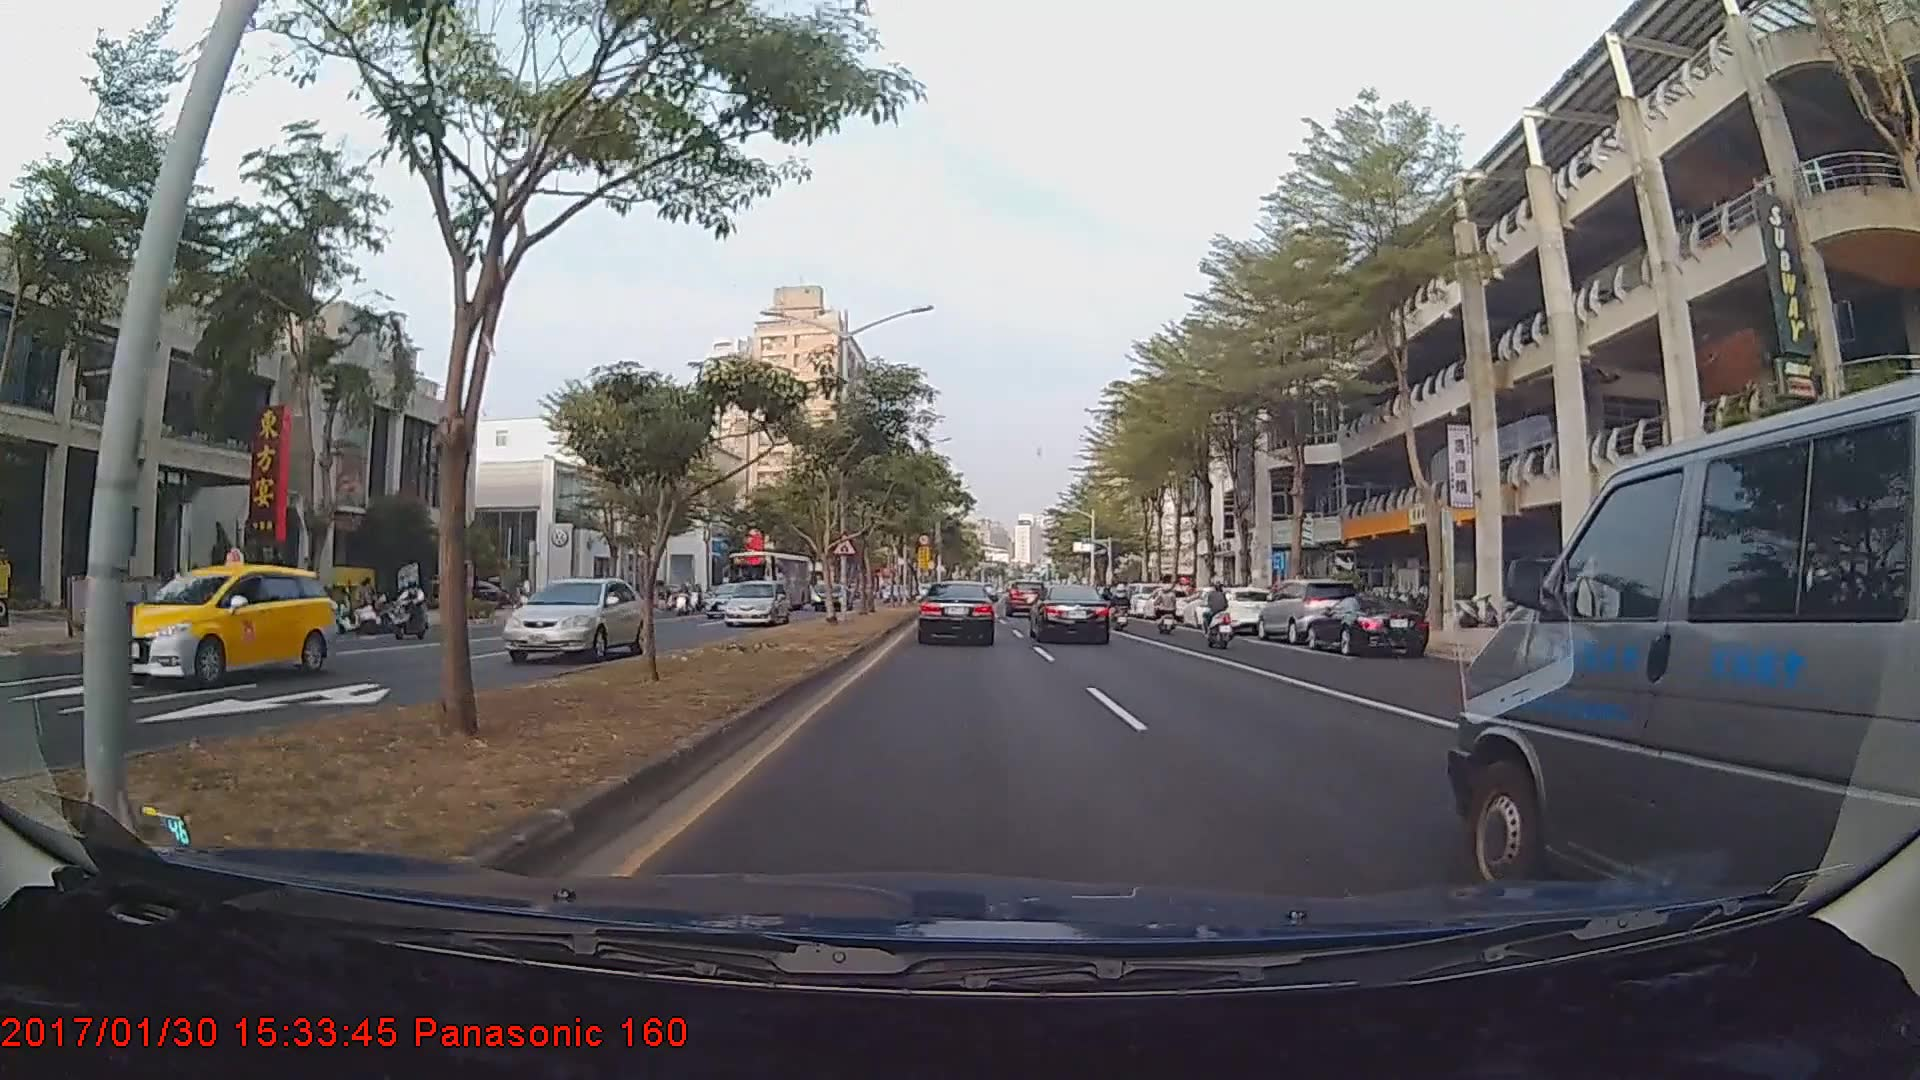rider: (389, 575, 436, 648), (1199, 583, 1240, 656), (1148, 583, 1182, 641), (1109, 585, 1132, 635)
vehicle: (1467, 413, 1912, 893), (104, 558, 339, 693), (504, 576, 649, 660), (1305, 597, 1430, 657), (1260, 580, 1365, 650), (726, 548, 813, 614), (916, 581, 997, 646), (1031, 581, 1112, 645), (719, 579, 791, 627), (1206, 586, 1274, 635), (1180, 584, 1238, 626), (701, 583, 752, 618), (1004, 579, 1050, 617), (810, 580, 852, 610)
